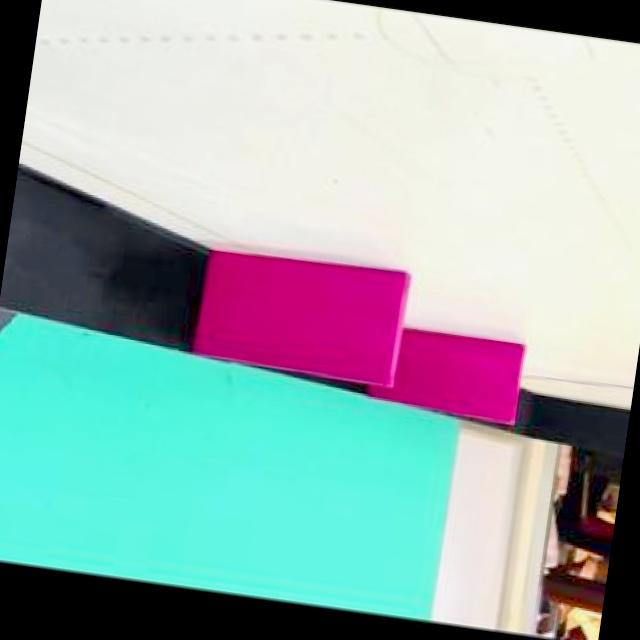xparking: (201, 250, 403, 386), (396, 326, 528, 421)
